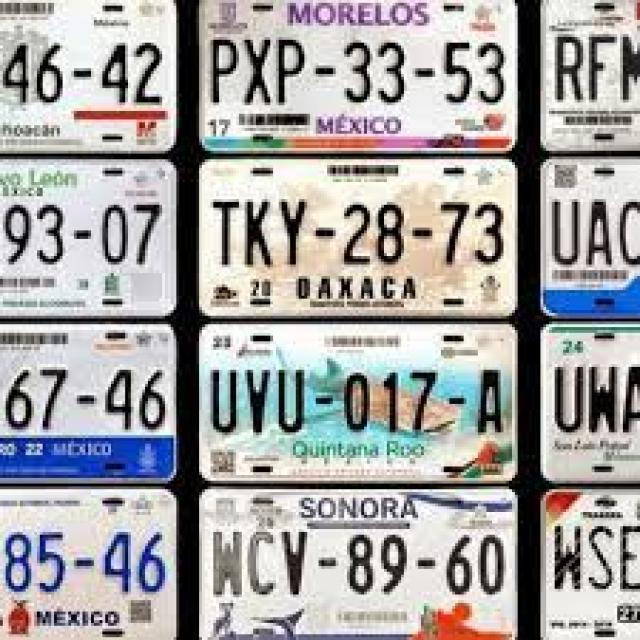placa: (197, 521, 516, 604), (198, 190, 516, 270), (199, 360, 517, 440), (201, 28, 517, 106)
